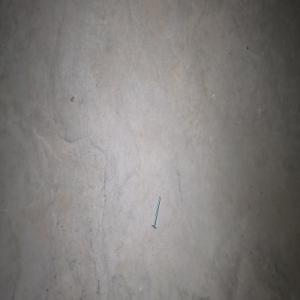Bolt: (151, 194, 161, 229)
